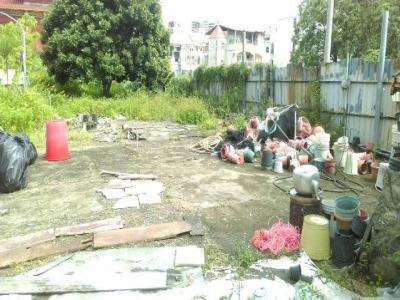bowl: (291, 162, 322, 196)
bucket: (300, 212, 332, 262), (334, 194, 361, 238), (44, 121, 71, 161), (272, 158, 285, 174)
plastic_bag: (1, 129, 27, 191)
